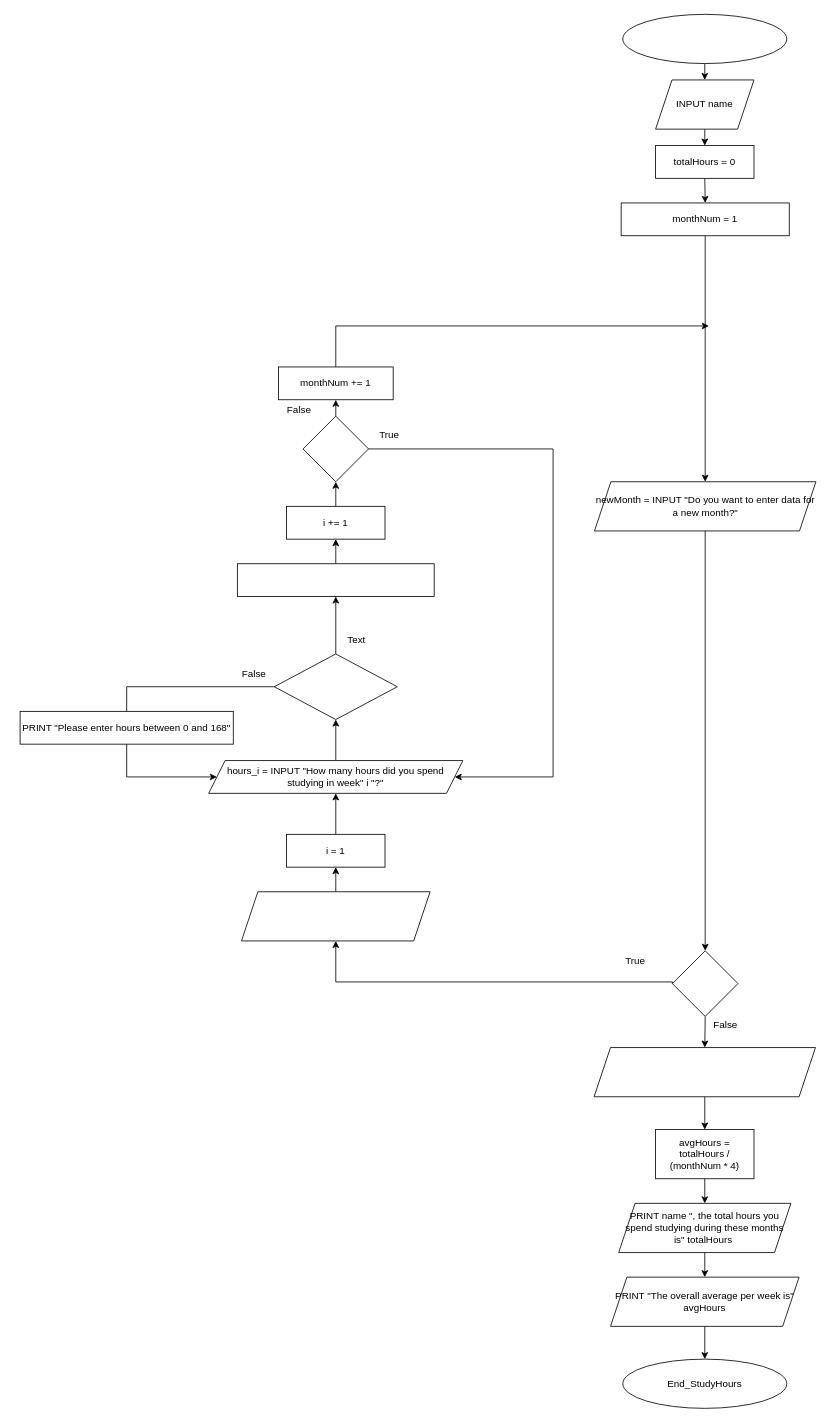
The diagram is 831 pixels wide and 1423 high, and some of its shapes have lost their labels. Each missing label, with the box of its shape:
IF 0 <= hours_i <= 168: (273, 653, 397, 720)
IF i <= 4: (302, 415, 369, 482)
IF newMonth == "yes": (672, 950, 738, 1016)
PRINT "Calculating total and average...": (593, 1047, 815, 1097)
PRINT "Entering data for month" monthNum: (241, 891, 430, 941)
Start_StudyHours: (622, 14, 787, 64)
totalHours += hours_i: (237, 563, 434, 597)
